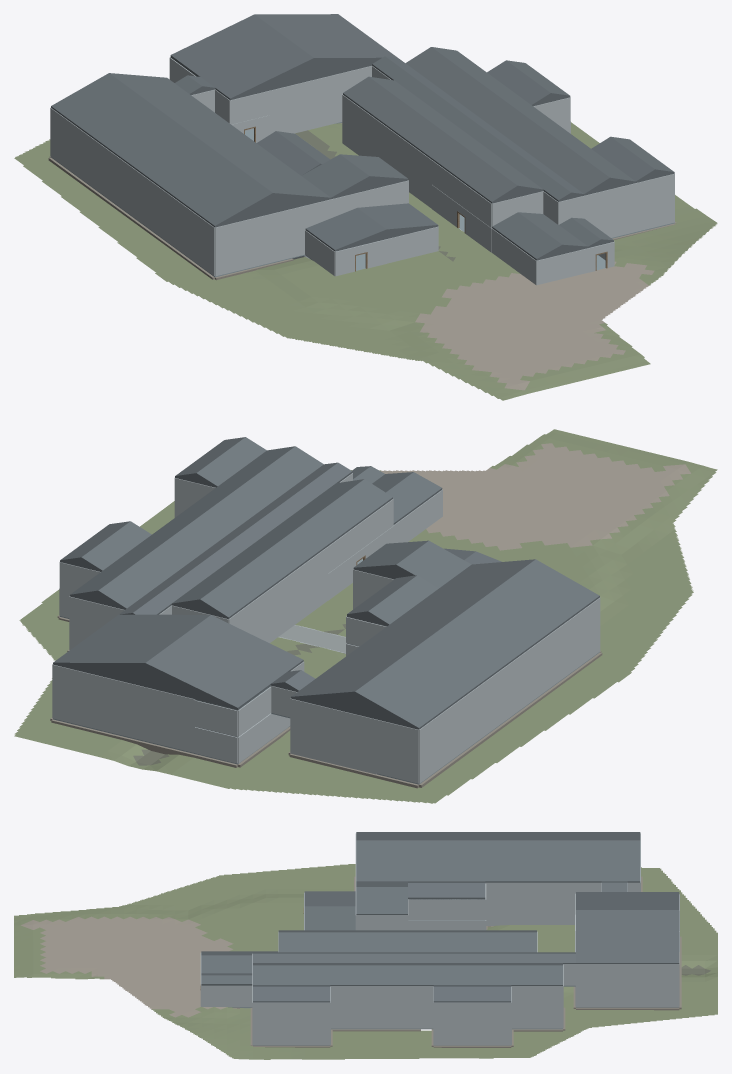
File: campus-grounds.glb
The picture shows the model from 3 angles, top to bottom: view 1: azimuth 30°, elevation 25°; view 2: azimuth 150°, elevation 25°; view 3: azimuth 270°, elevation 25°; orthographic projection. The views are drawn at different scales.
Parts seen in each view (by area): view 1: College saved campus earthworks, teaching-and-lecture roof west, east-residence-and-service roof west, teaching-and-lecture roof east, library roof west, west-residence roof west, Wall lecture S, library roof east, Wall lecture W, east-residence-and-service roof east, residence-spine roof west, west-residence roof east (+40 smaller); view 2: College saved campus earthworks, teaching-and-lecture roof west, east-residence-and-service roof west, teaching-and-lecture roof east, library roof west, west-residence roof west, library roof east, Wall lecture W, east-residence-and-service roof east, residence-spine roof west, west-residence roof east, Wall project N (+45 smaller); view 3: College saved campus earthworks, teaching-and-lecture roof east, east-residence-and-service roof east, library roof east, west-residence roof east, teaching-and-lecture roof west, residence-spine roof east, COLLEGE retained outside wall 7, COLLEGE retained outside wall 4, library roof west, Wall upper-reading E, Wall upper-north-stair E (+29 smaller).
Boxes of the visible parts, left/top/right/bottom form: College saved campus earthworks: left=14, top=122, right=717, bottom=400; teaching-and-lecture roof west: left=51, top=73, right=272, bottom=227; east-residence-and-service roof west: left=405, top=47, right=609, bottom=194; teaching-and-lecture roof east: left=109, top=73, right=330, bottom=199; library roof west: left=170, top=14, right=313, bottom=99; west-residence roof west: left=343, top=76, right=517, bottom=203; Wall lecture S: left=215, top=205, right=305, bottom=276; library roof east: left=255, top=14, right=397, bottom=59; Wall lecture W: left=140, top=173, right=214, bottom=276; east-residence-and-service roof east: left=432, top=47, right=635, bottom=182; residence-spine roof west: left=424, top=94, right=571, bottom=201; west-residence roof east: left=369, top=76, right=543, bottom=190; College saved campus earthworks: left=14, top=429, right=717, bottom=803; teaching-and-lecture roof west: left=355, top=559, right=599, bottom=729; east-residence-and-service roof west: left=98, top=446, right=323, bottom=608; teaching-and-lecture roof east: left=291, top=559, right=535, bottom=698; library roof west: left=145, top=615, right=303, bottom=709; west-residence roof west: left=200, top=479, right=392, bottom=618; library roof east: left=53, top=614, right=210, bottom=664; Wall lecture W: left=518, top=597, right=600, bottom=710; east-residence-and-service roof east: left=70, top=446, right=294, bottom=596; residence-spine roof west: left=190, top=462, right=352, bottom=579; west-residence roof east: left=171, top=479, right=363, bottom=604; Wall project N: left=319, top=705, right=418, bottom=756; College saved campus earthworks: left=14, top=864, right=717, bottom=1059; teaching-and-lecture roof east: left=356, top=840, right=640, bottom=882; east-residence-and-service roof east: left=253, top=965, right=562, bottom=986; library roof east: left=576, top=910, right=679, bottom=964; west-residence roof east: left=278, top=932, right=536, bottom=952; teaching-and-lecture roof west: left=356, top=832, right=640, bottom=840; residence-spine roof east: left=253, top=953, right=485, bottom=962; COLLEGE retained outside wall 7: left=485, top=882, right=601, bottom=903; COLLEGE retained outside wall 4: left=486, top=904, right=575, bottom=924; library roof west: left=576, top=892, right=679, bottom=909; Wall upper-reading E: left=601, top=964, right=679, bottom=985; Wall upper-north-stair E: left=433, top=1002, right=511, bottom=1023.
Bounding box in the file's own units: 73 × 13.86 × 109.
43 materials, 26 textured.
